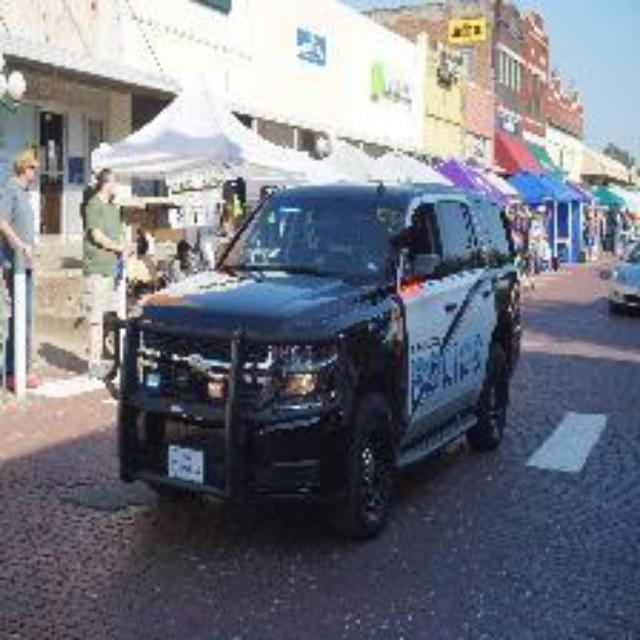emergency: (106, 174, 540, 546)
